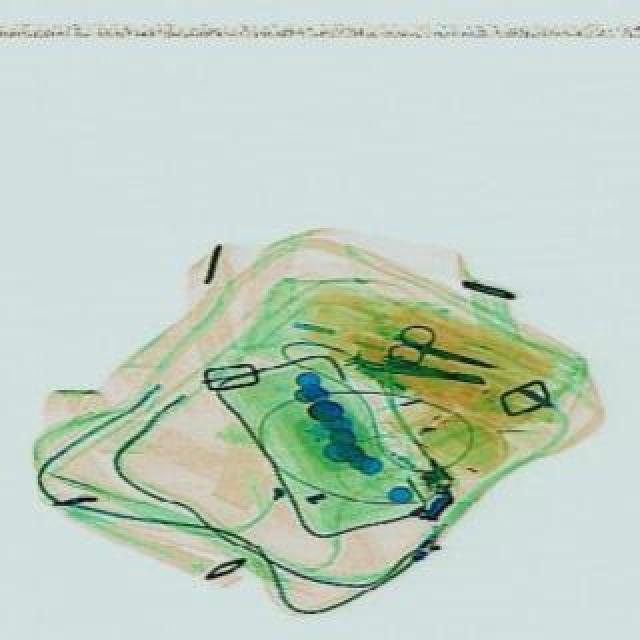pliers: (384, 316, 502, 392)
